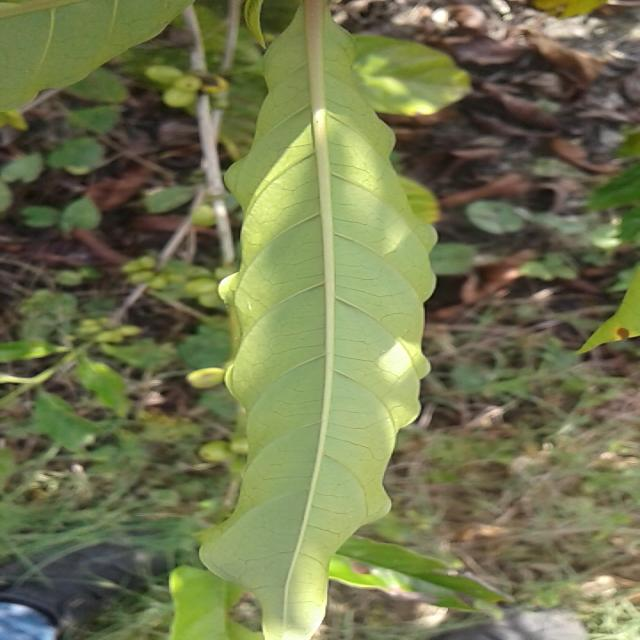Sanas: (196, 0, 439, 640)
